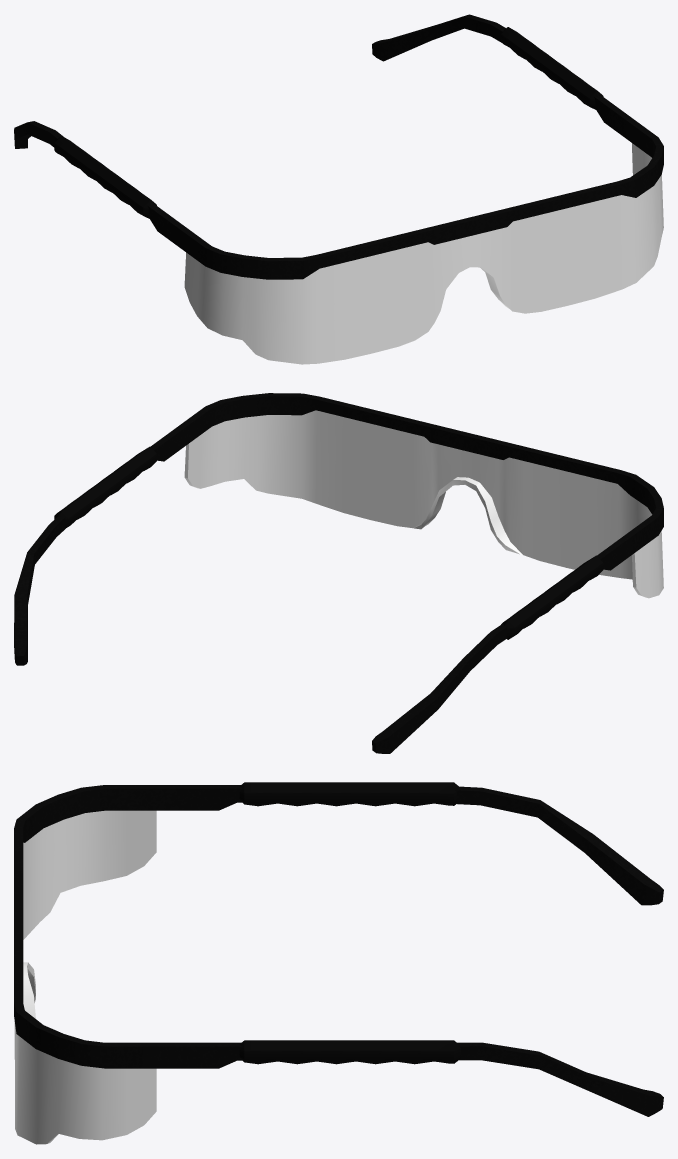
Rendered from Google Vision .fbx.
3 renders of one model, top to bottom at view 1: azimuth 30°, elevation 25°; view 2: azimuth 150°, elevation 25°; view 3: azimuth 270°, elevation 25°, orthographic. The views are drawn at different scales.
Visible parts, largest first — view 1: Cube.001, Cube, Cube.002; view 2: Cube.001, Cube, Cube.002; view 3: Cube, Cube.001, Cube.002.
Part boxes in pixels (x1,y1,x2,y2): Cube.001: [184, 143, 663, 364]; Cube: [14, 14, 663, 279]; Cube.002: [54, 27, 603, 218]; Cube.001: [184, 410, 663, 598]; Cube: [14, 393, 663, 753]; Cube.002: [54, 446, 603, 639]; Cube: [14, 785, 663, 1116]; Cube.001: [14, 810, 156, 1144]; Cube.002: [239, 782, 460, 1064].
Size of the model in its own units: 12.53 by 2.92 by 12.92.
2 materials, 2 textured.
